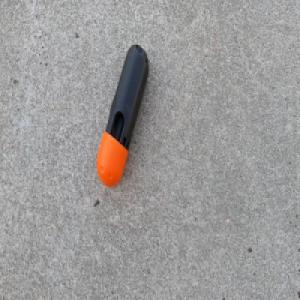PlasticPart: (95, 44, 149, 189)
